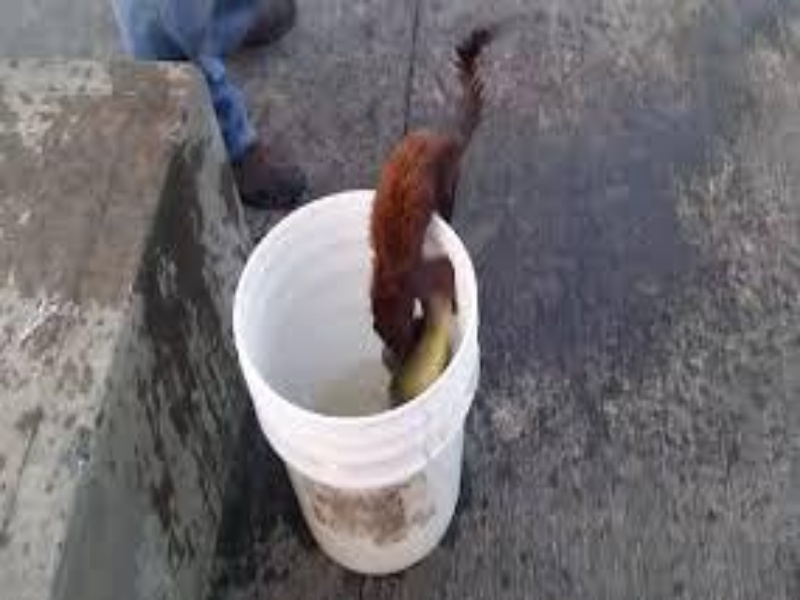minkish: (371, 28, 493, 393)
